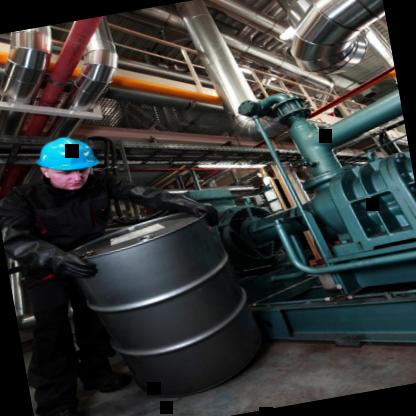helmet: (25, 130, 106, 198)
